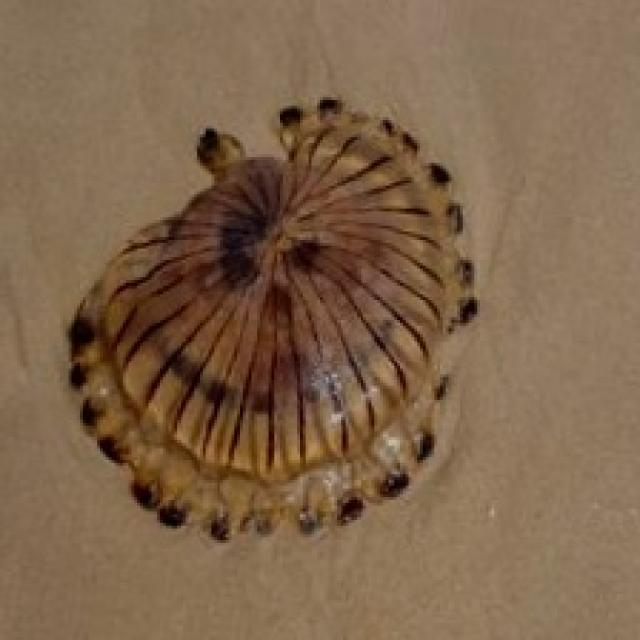Jellyfish: (63, 94, 480, 543)
